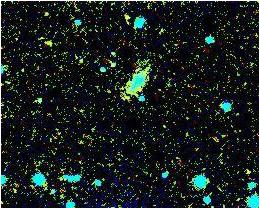star: (33, 27, 63, 57)
